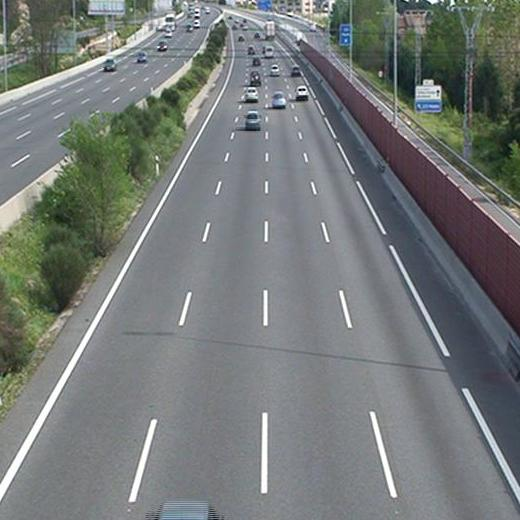car: (271, 91, 288, 108), (244, 111, 260, 128), (244, 87, 259, 103), (295, 84, 309, 101), (268, 63, 282, 77), (249, 69, 261, 85), (289, 65, 303, 77), (250, 55, 263, 66)
van: (265, 46, 274, 57)
